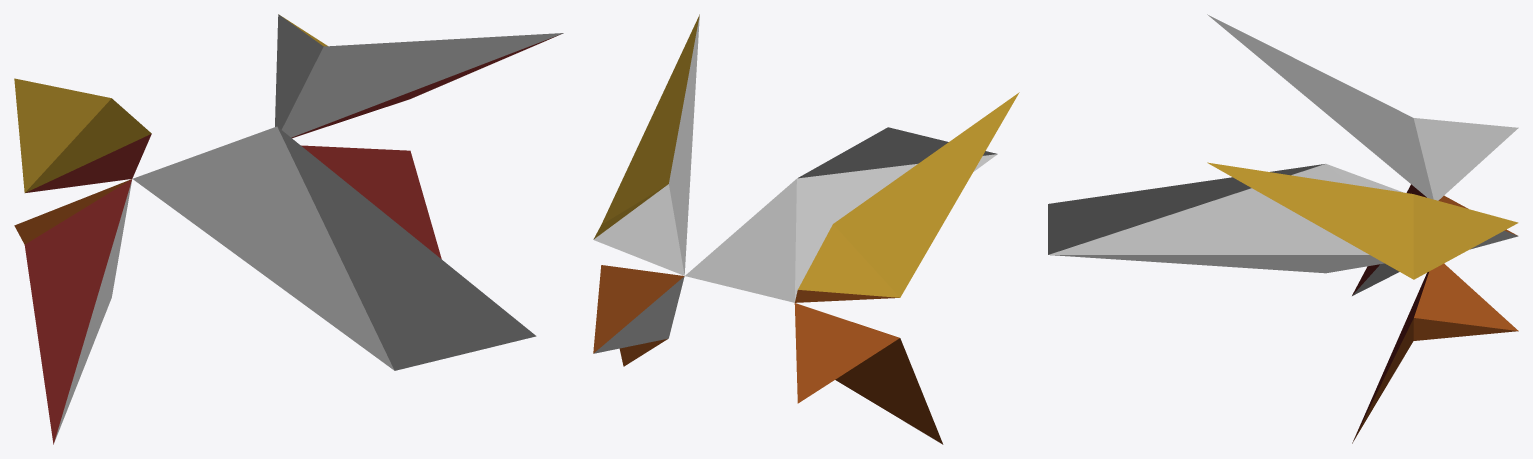
The model's file is Elemental Cutlass.obj.
The picture shows the model from 3 angles, left to right: view 1: azimuth 30°, elevation 25°; view 2: azimuth 150°, elevation 25°; view 3: azimuth 270°, elevation 25°; orthographic projection. The views are drawn at different scales.
Parts seen in each view (by area): view 1: Cutlass; view 2: Cutlass; view 3: Cutlass.
Boxes of the visible parts, x1,y1,x2,y2 form: Cutlass: [14, 14, 563, 444]; Cutlass: [593, 14, 1019, 444]; Cutlass: [1048, 14, 1518, 443].
Size of the model in its own units: 1.45 by 1.29 by 1.95.
